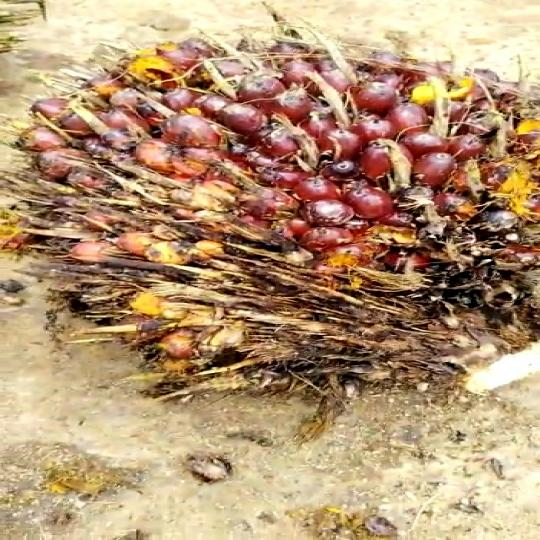masak: (0, 8, 540, 406)
